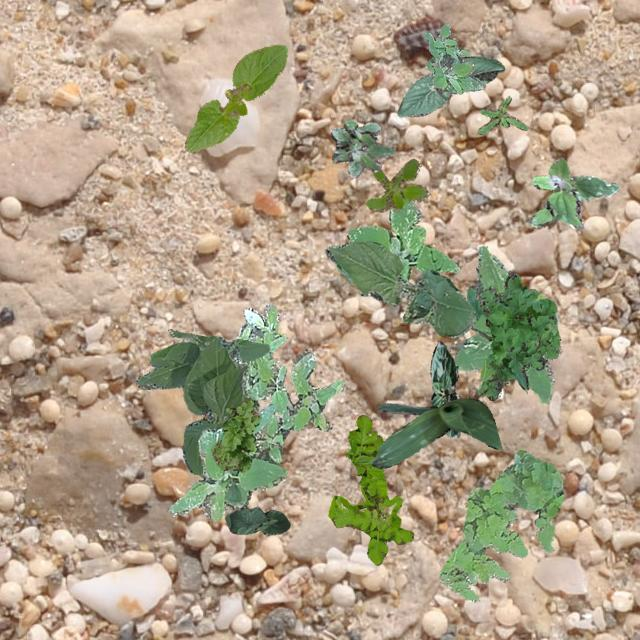crop: (134, 330, 268, 478), (324, 240, 476, 336), (184, 44, 286, 152), (370, 398, 500, 468), (396, 56, 504, 116), (430, 340, 460, 438), (224, 506, 288, 534)
weed: (438, 448, 562, 600), (452, 245, 552, 402), (232, 304, 342, 444), (168, 402, 286, 520), (328, 414, 412, 564), (466, 272, 560, 399), (346, 198, 458, 282), (528, 156, 618, 228), (422, 22, 484, 94), (329, 118, 394, 176), (212, 396, 260, 472), (364, 158, 428, 212), (476, 95, 528, 134)
